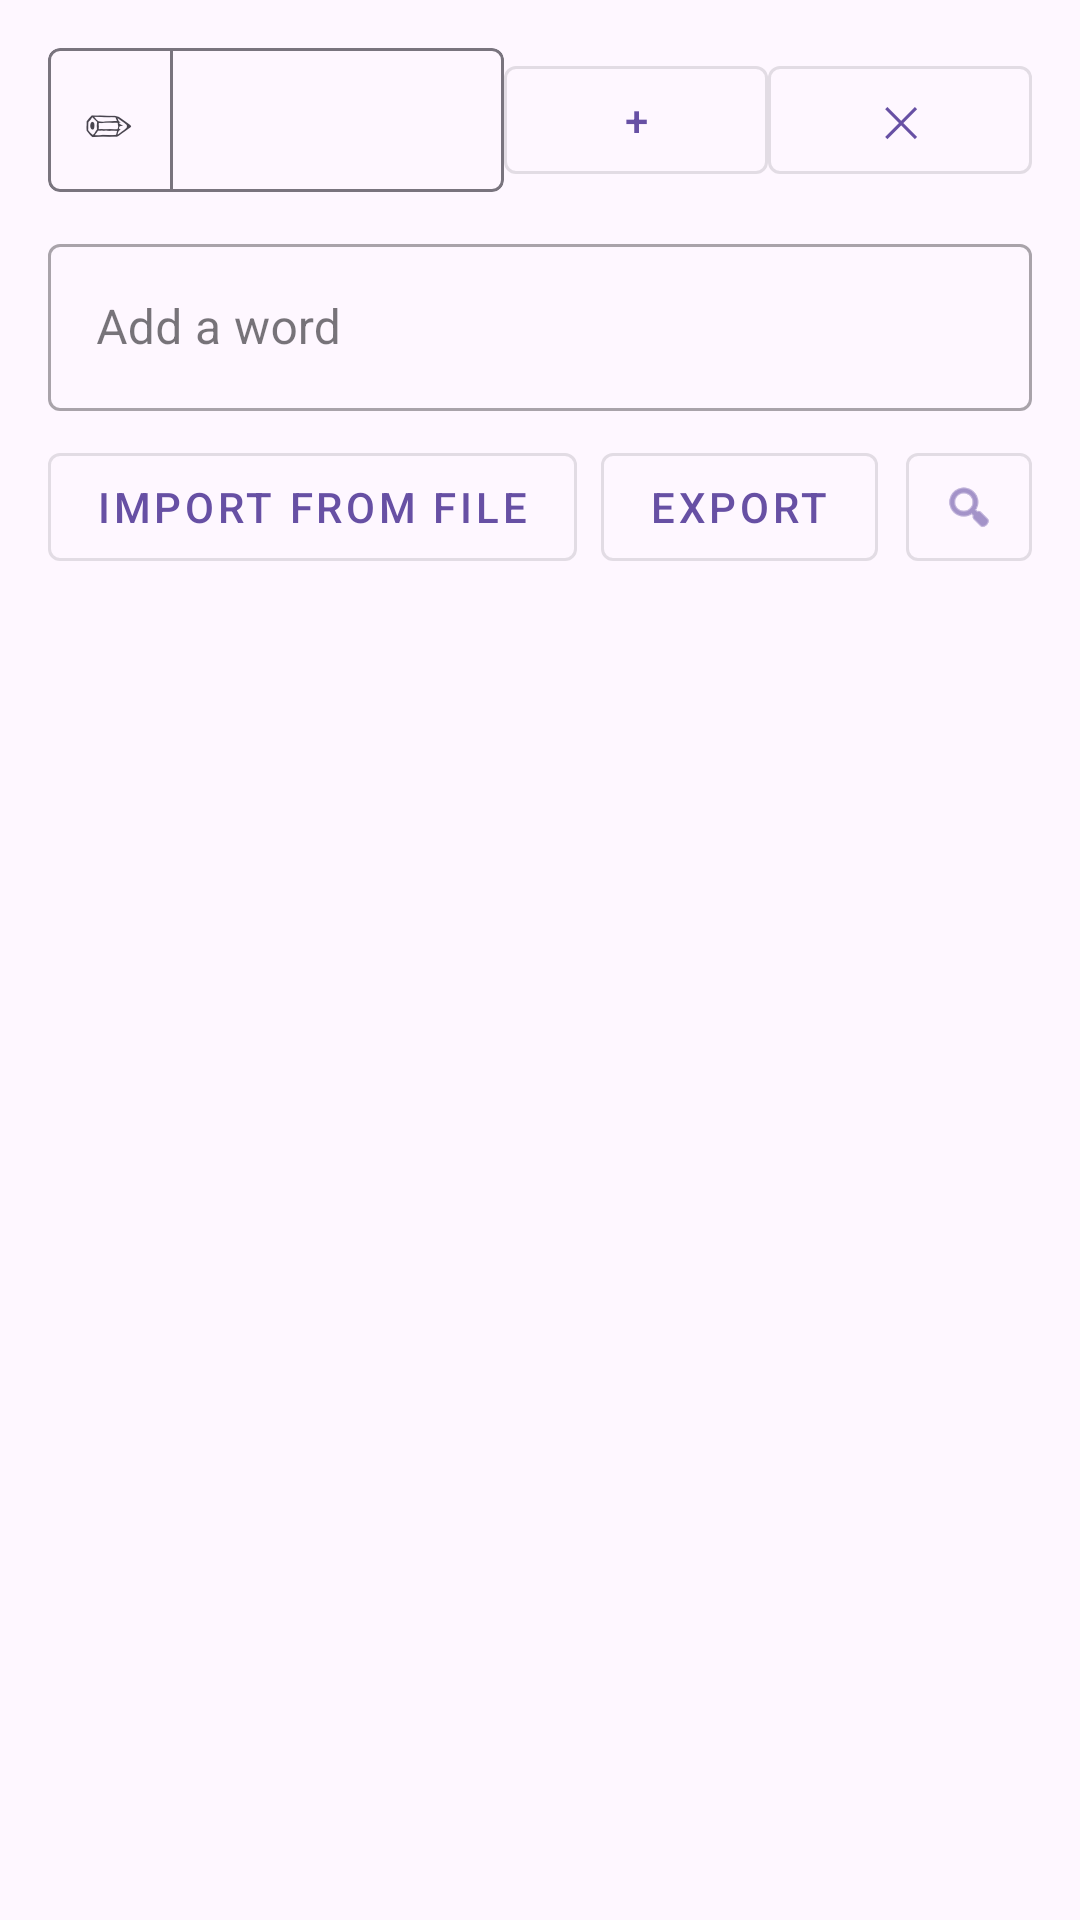

Icon click points for this 1080px x 1920px phone screenshot, format point (x, y):
search: point (969, 507)
